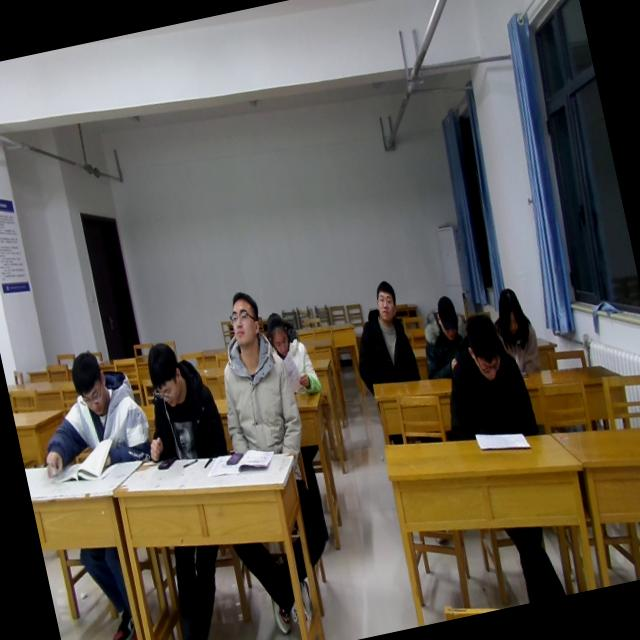down: (137, 332, 190, 414), (64, 344, 118, 424), (456, 306, 508, 388), (490, 280, 528, 344), (260, 304, 298, 360), (428, 288, 465, 344)
lookup: (220, 280, 266, 350), (366, 273, 402, 325)
sit: (199, 284, 312, 464), (20, 342, 155, 484), (427, 304, 538, 451), (126, 332, 230, 472), (340, 276, 422, 395), (260, 304, 324, 402), (412, 292, 476, 384), (488, 282, 544, 378)
